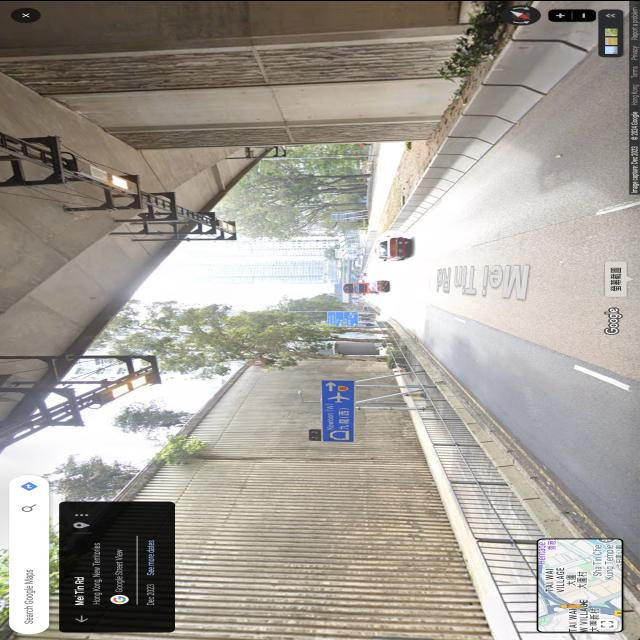Direction-Sign: (322, 380, 354, 441), (327, 310, 358, 324)
